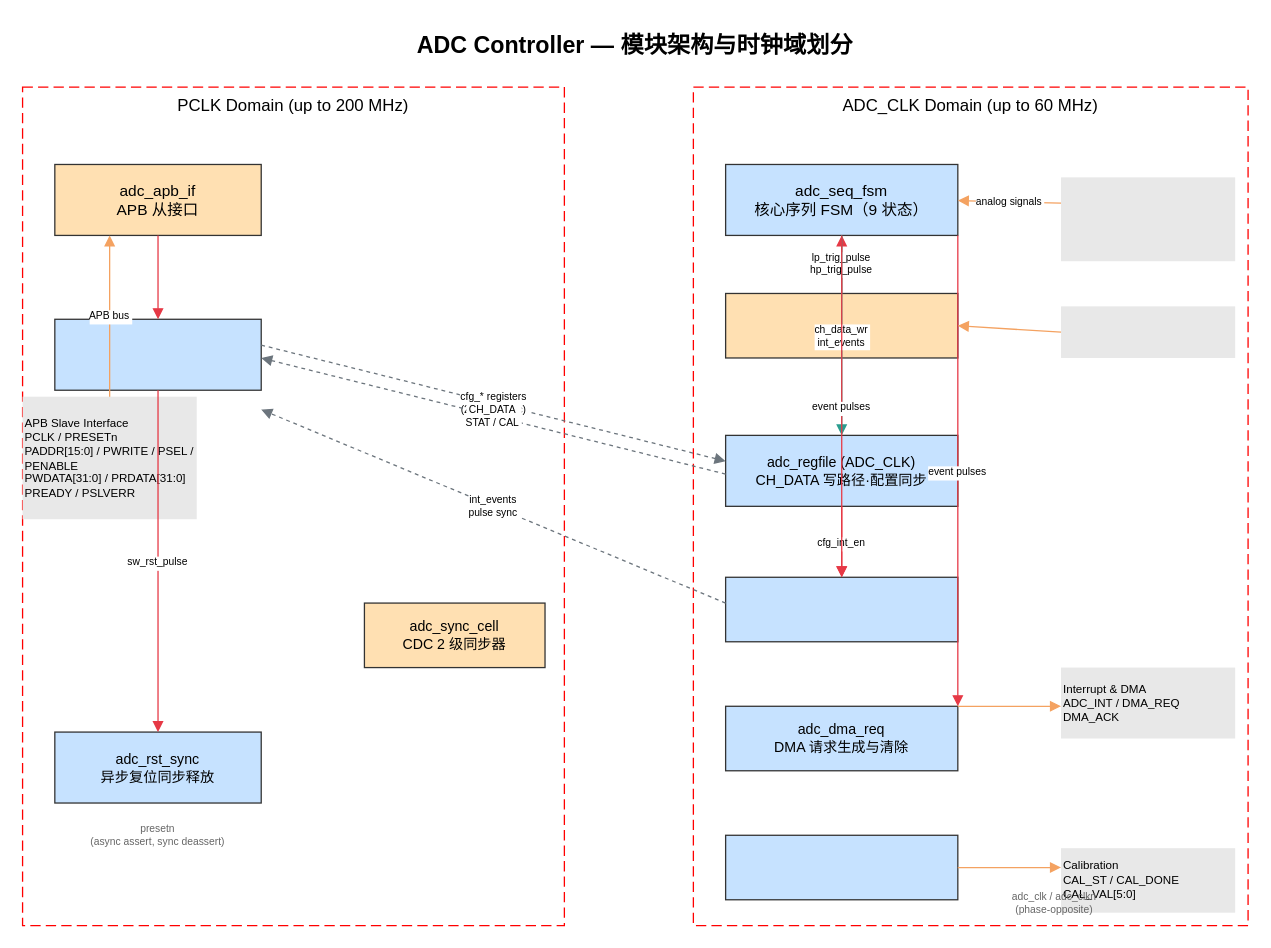
Image size: 1271x948. Some labels were removed from this diagram. The shapes that lost their labels are listed below. From the top down, each one's centre as x and y in pixels, then its label:
At (x=1147, y=219): "Analog Interface SOC / MUXON / CH_SEL[4:0] EOC / ADC_DATA[13:0]".
At (x=841, y=325): "adc_trig_sync MCTM 触发同步（6 通道）".
At (x=1147, y=331): "Ext Triggers MCTM_TRIG[5:0]".
At (x=157, y=354): "adc_regfile (PCLK) 寄存器读路径·中断状态".
At (x=841, y=609): "adc_int_ctrl 中断事件汇聚与门控".
At (x=841, y=867): "adc_calib 校准控制（ST/DONE/VAL）".
